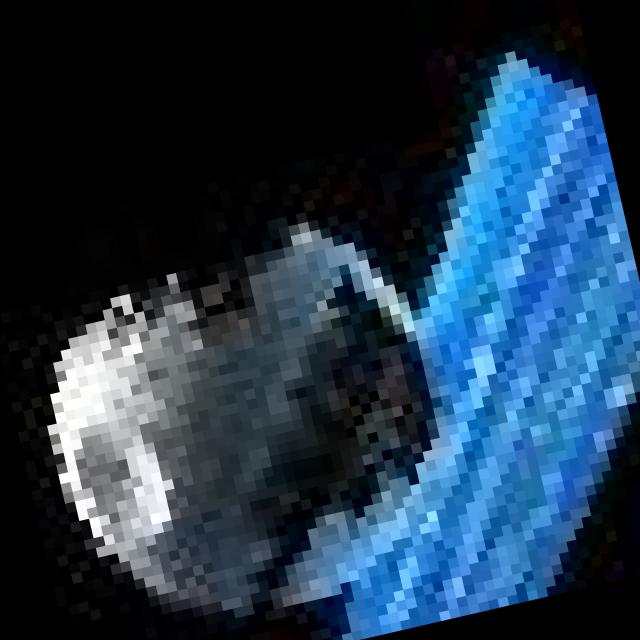Death Star: (1, 177, 493, 632)
